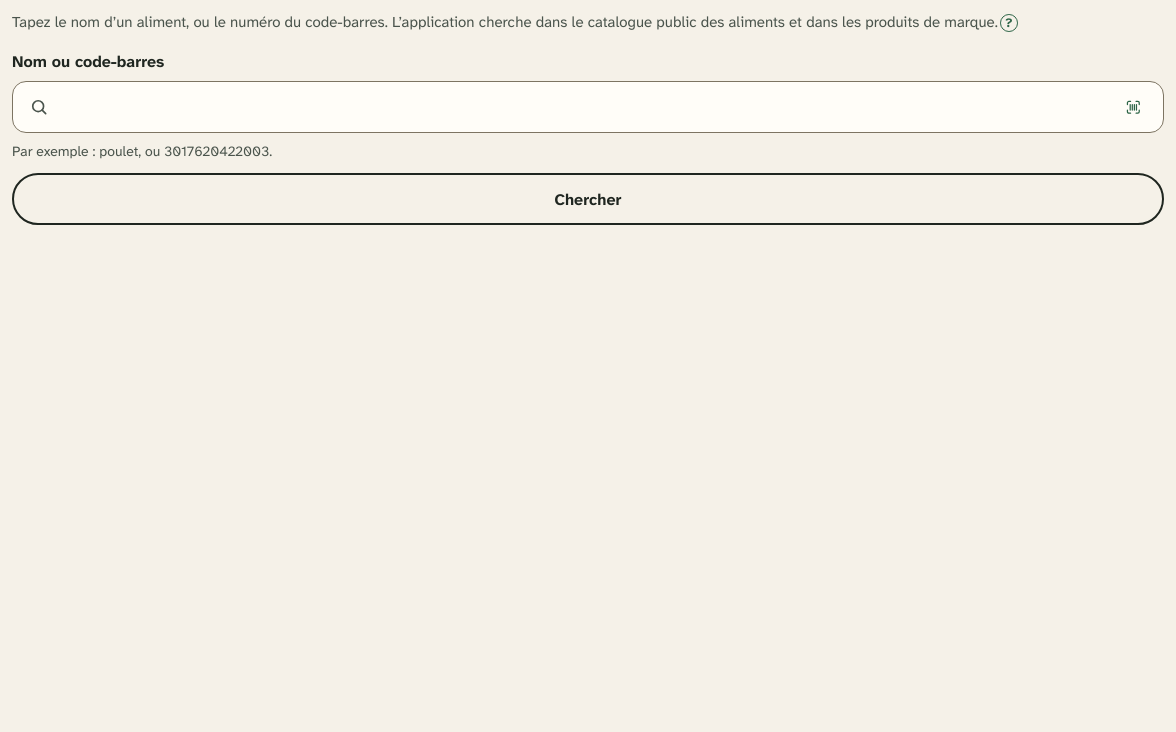
Test: FoodPicker — résultats › ouvre la portion sous l’aliment, puis rend le focus à son bouton une fois ajouté
In the search field labelled "Nom ou code-barres": {"x": 580, "y": 107} [57,82,1103,132], type "skyr"
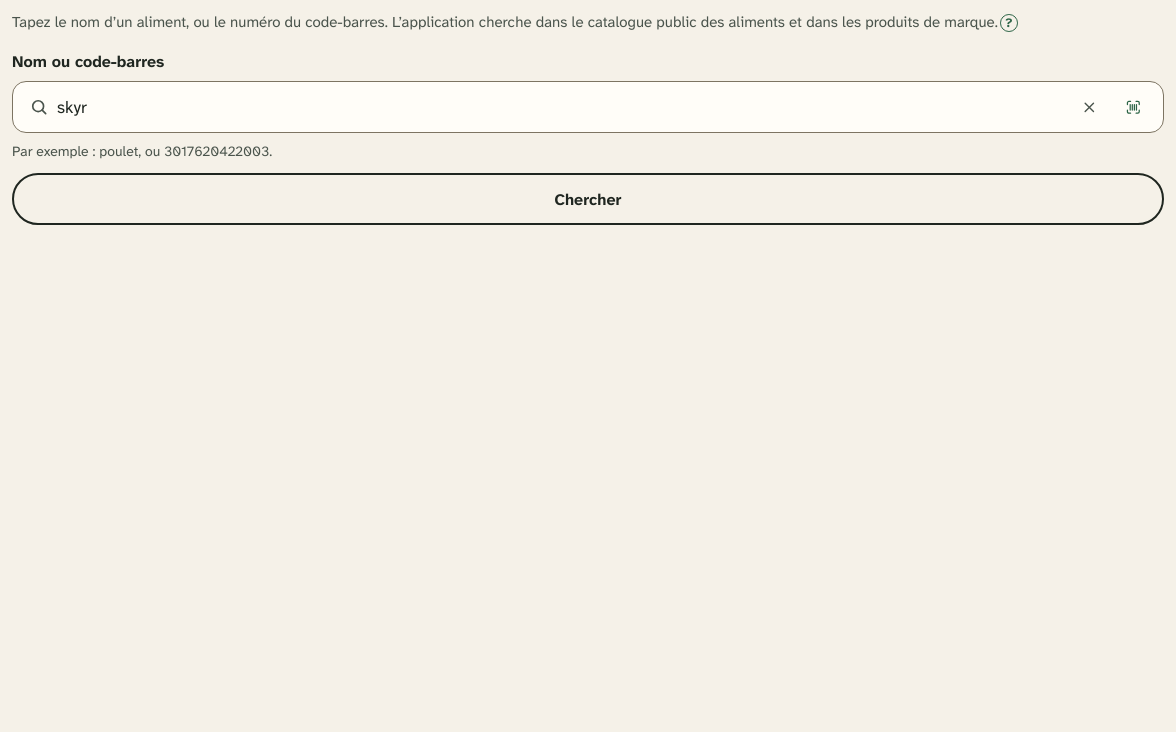
Submit the form, box [12,50,1164,225]
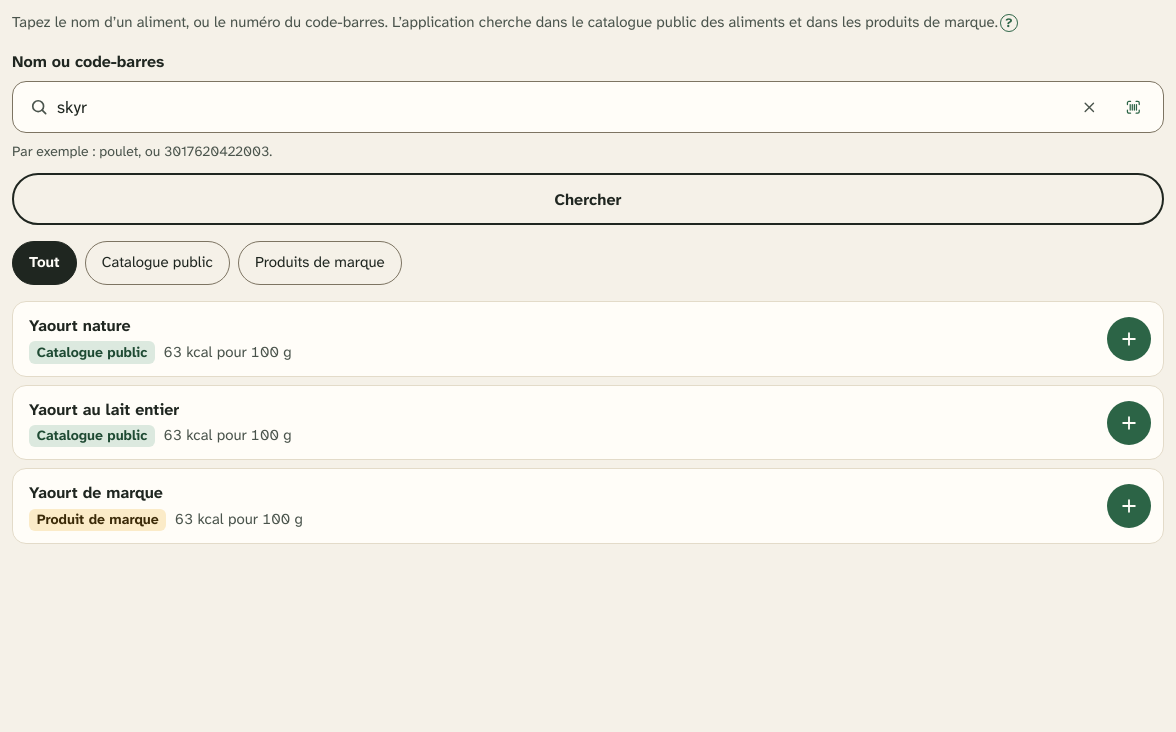
Click the button "Yaourt nature Catalogue public 63 kcal pour 100 g": {"x": 80, "y": 326} [13,302,1163,376]
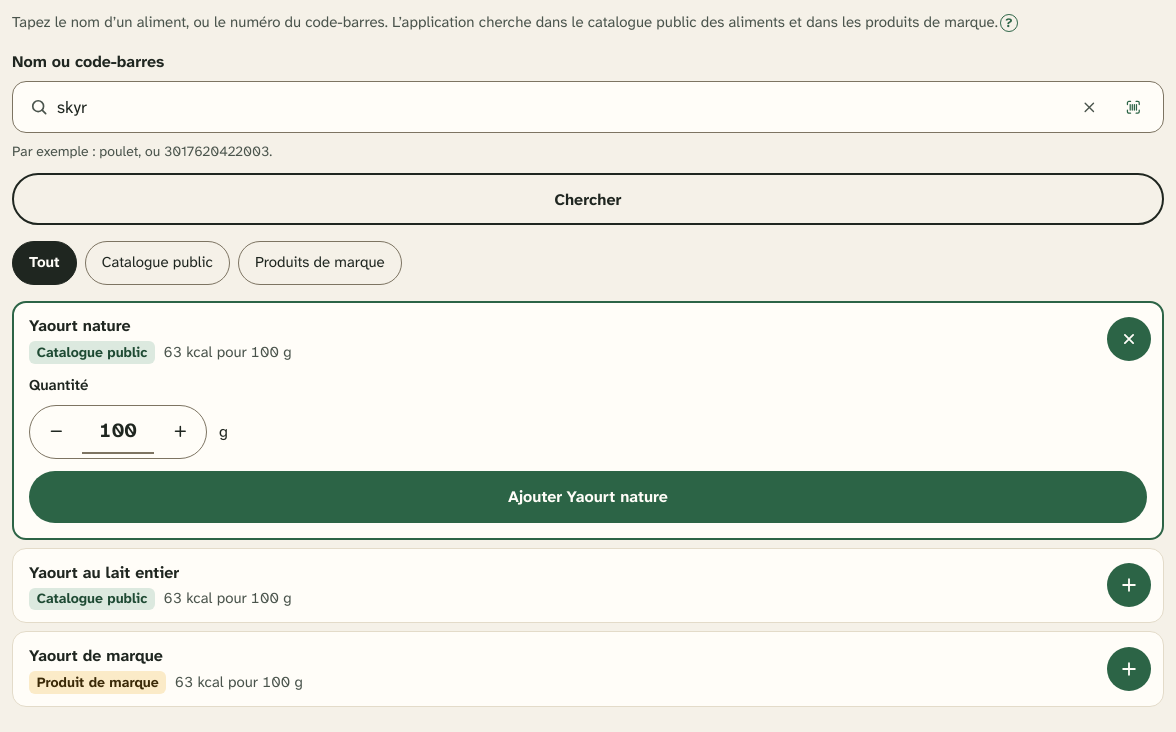
Expected: the button "Yaourt nature Catalogue public 63 kcal pour 100 g" is expanded, [14,303,1162,375]
Click the button "Ajouter Yaourt nature": {"x": 588, "y": 496} [29,470,1147,522]
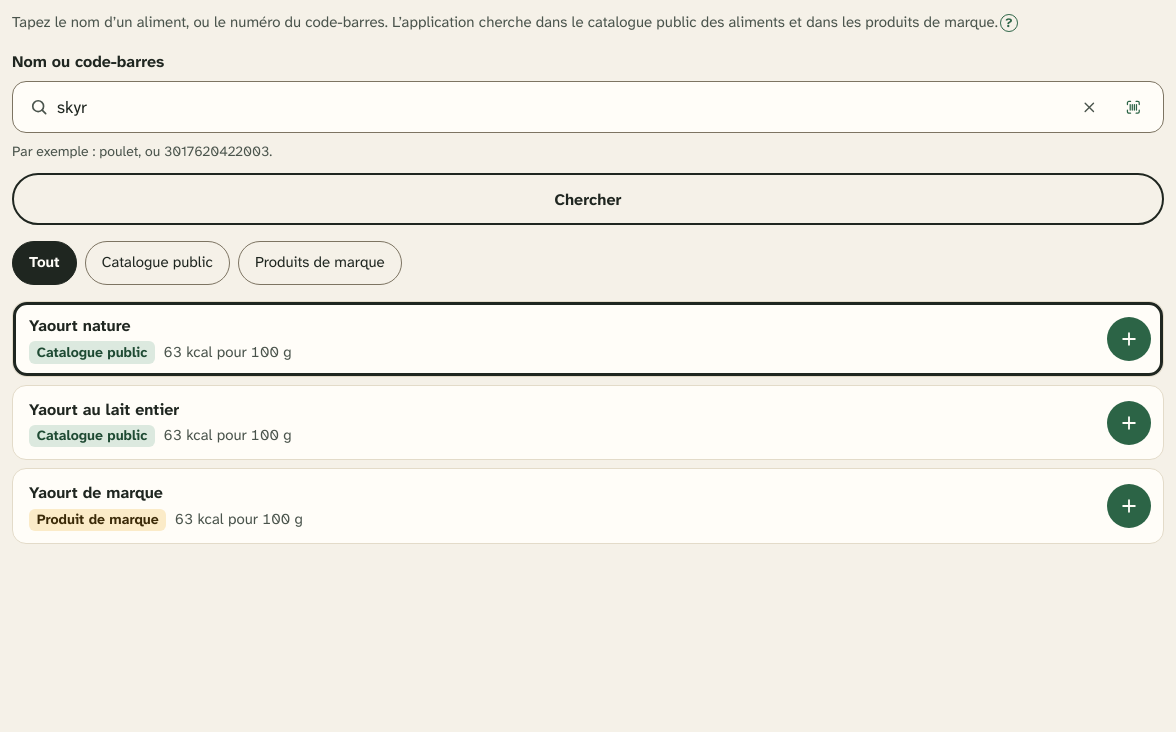
Expected: the button "Yaourt nature Catalogue public 63 kcal pour 100 g" is collapsed, [13,302,1163,376]
